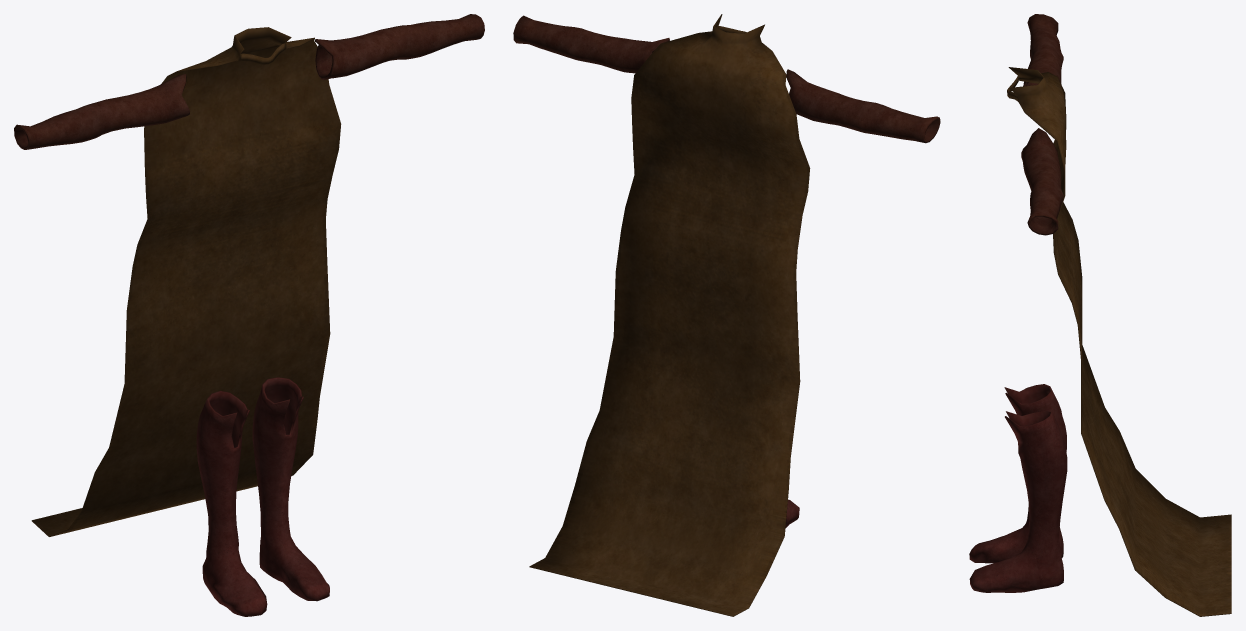
Rendered from buyucu kostum_ekler.fbx.
3 renders of one model, left to right at view 1: azimuth 30°, elevation 25°; view 2: azimuth 150°, elevation 25°; view 3: azimuth 270°, elevation 25°, orthographic. The views are drawn at different scales.
Visible parts, largest first — view 1: kostum.ekler; view 2: kostum.ekler; view 3: kostum.ekler.
Part boxes in pixels (bbox=[...]): kostum.ekler: bbox=[14, 14, 484, 616]; kostum.ekler: bbox=[513, 14, 940, 616]; kostum.ekler: bbox=[969, 14, 1231, 616].
Bounding box in the file's own units: 129 × 148 × 71.25.
Materials: 1 (1 with a texture image).
